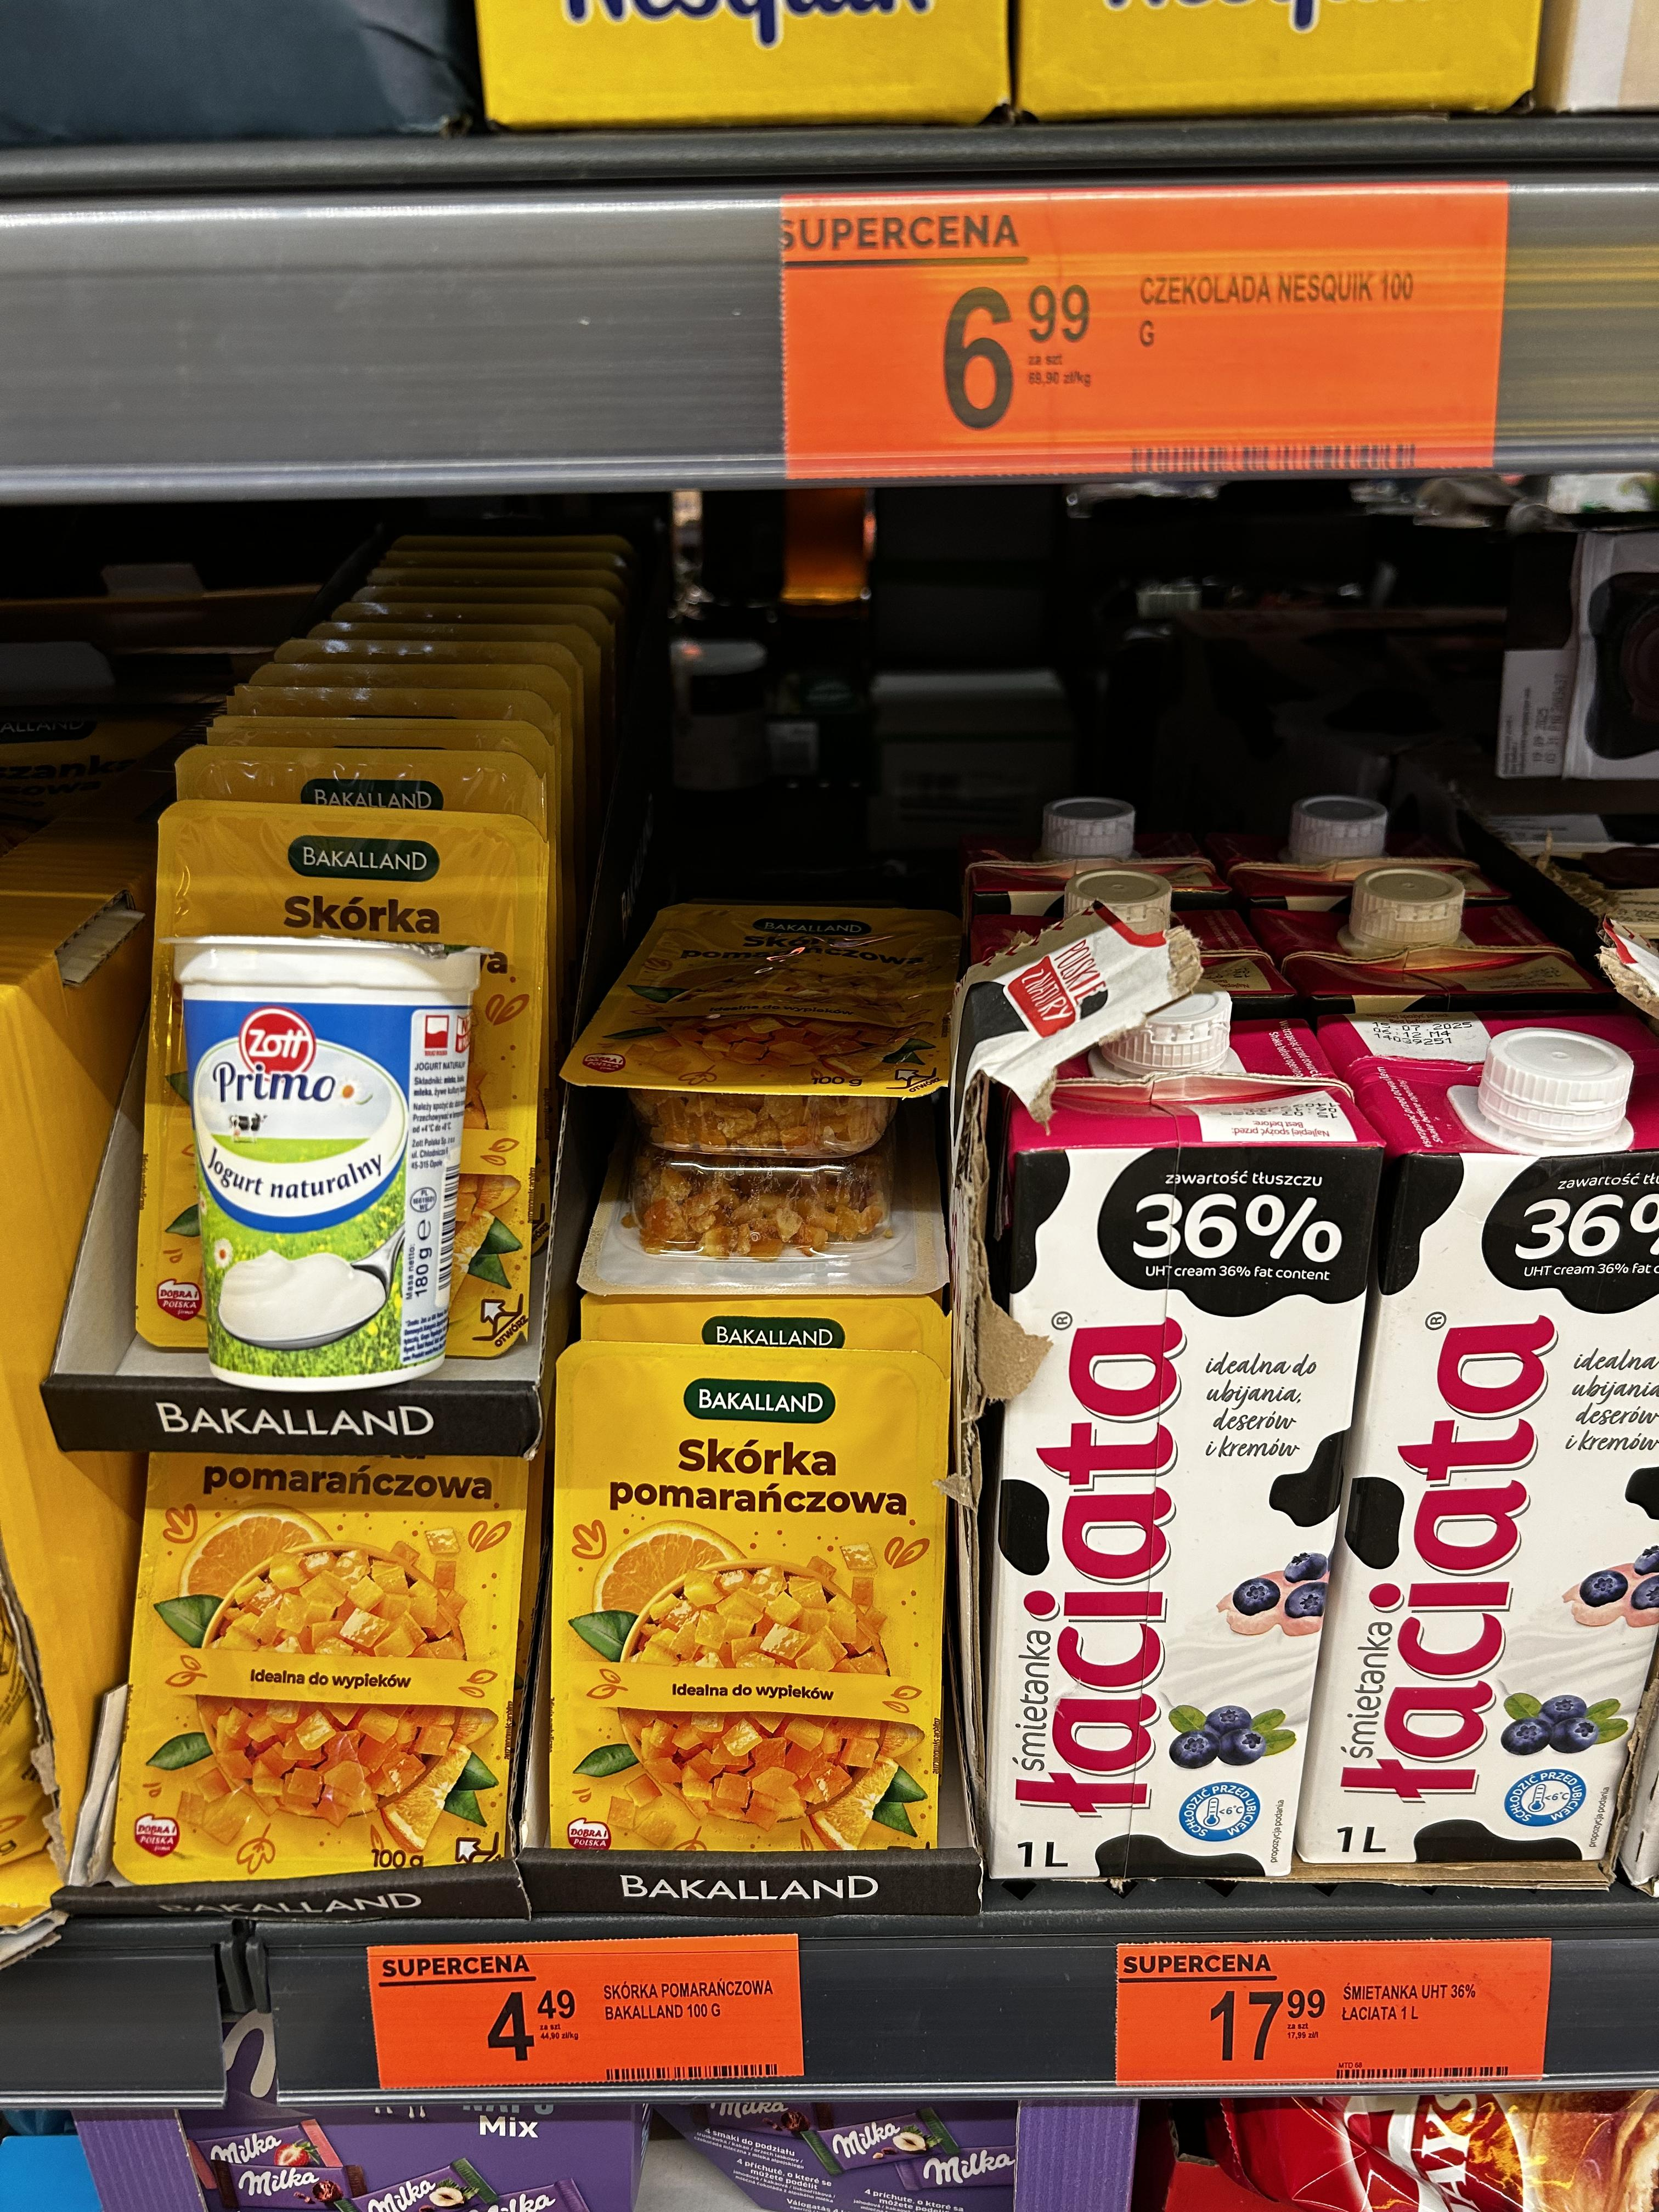Yogurt: (167, 925, 523, 1381)
